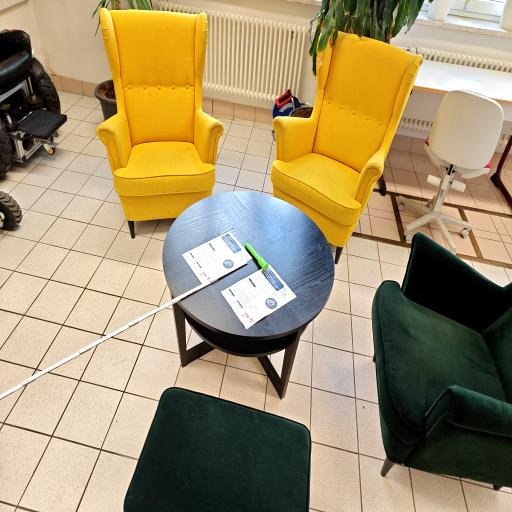Probe-Detection: (245, 242, 268, 270)
